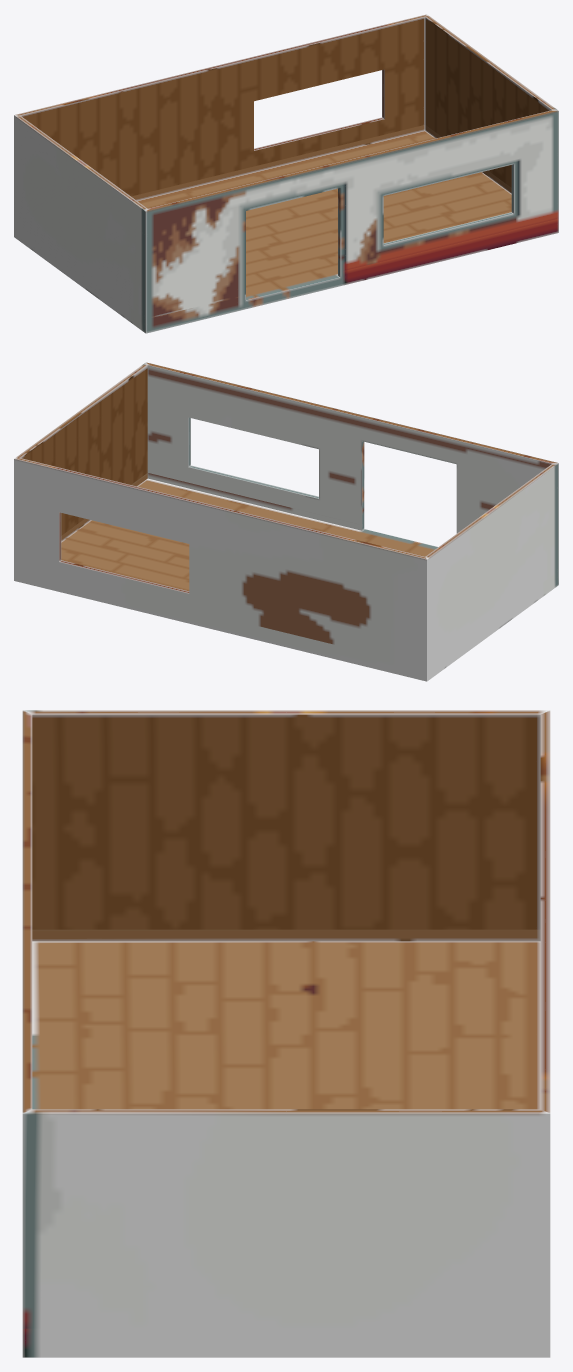
The model's file is Train2.fbx.
3 renders of one model, top to bottom at view 1: azimuth 30°, elevation 25°; view 2: azimuth 150°, elevation 25°; view 3: azimuth 270°, elevation 25°, orthographic. The views are drawn at different scales.
Visible parts, largest first — view 1: Cube, FrontWall; view 2: Cube, FrontWall; view 3: Cube, FrontWall.
Boxes of the visible parts, x1,y1,x2,y2 form: Cube: (14,14,558,333); FrontWall: (146,110,558,333); Cube: (14,362,558,681); FrontWall: (146,362,557,548); Cube: (22,710,550,1357); FrontWall: (22,710,32,1112).
Bounding box in the file's own units: 969 × 273 × 536.
